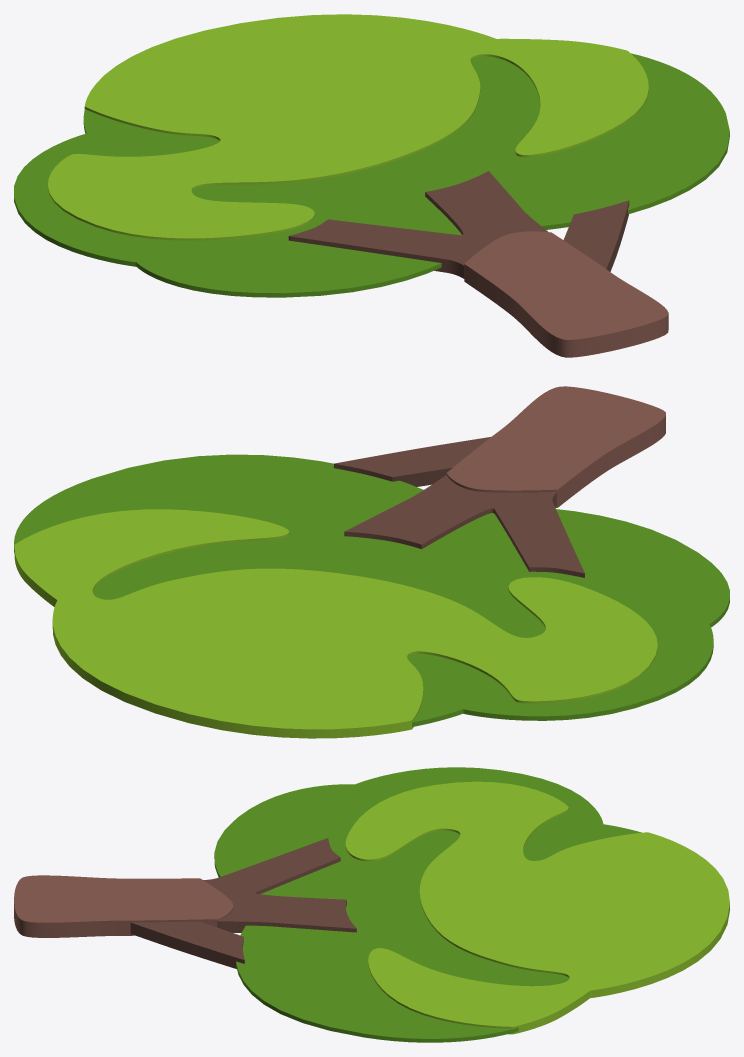
Rendered from emoji_u1f333.glb.
3 views of the same model, one above another, from view 1: azimuth 30°, elevation 25°; view 2: azimuth 150°, elevation 25°; view 3: azimuth 270°, elevation 25° (orthographic). The views are drawn at different scales.
Parts seen in each view (by area): view 1: emoji_u1f333; view 2: emoji_u1f333; view 3: emoji_u1f333.
Part boxes in pixels (x1,y1,x2,y2): emoji_u1f333: (14, 14, 729, 357); emoji_u1f333: (14, 386, 729, 738); emoji_u1f333: (14, 767, 729, 1042).
Bounding box in the file's own units: 0.0306 × 0.0008 × 0.0341.
